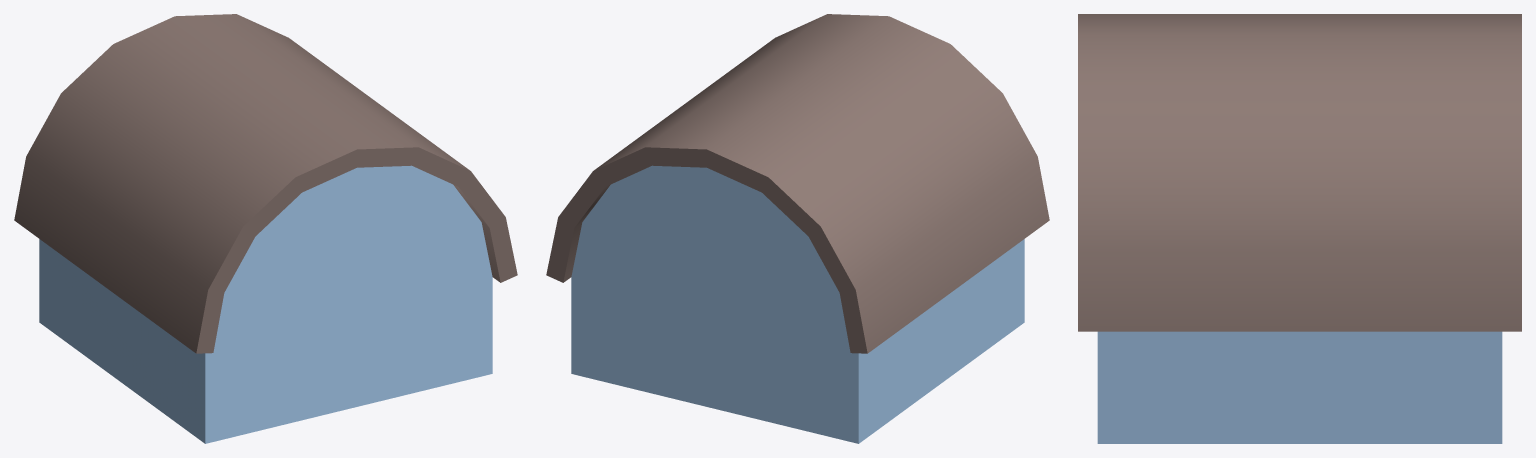
The model's file is Map-House-R-Lv1-R.fbx.
3 views of the same model, side by side, from view 1: azimuth 30°, elevation 25°; view 2: azimuth 150°, elevation 25°; view 3: azimuth 270°, elevation 25° (orthographic). The views are drawn at different scales.
Parts seen in each view (by area): view 1: Map-House-R-Lv1-R; view 2: Map-House-R-Lv1-R; view 3: Map-House-R-Lv1-R.
Part boxes in pixels (x1,y1,x2,y2): Map-House-R-Lv1-R: (14, 14, 517, 443); Map-House-R-Lv1-R: (546, 14, 1049, 443); Map-House-R-Lv1-R: (1078, 14, 1521, 443).
Bounding box in the file's own units: 1.34 × 1.06 × 1.32.
